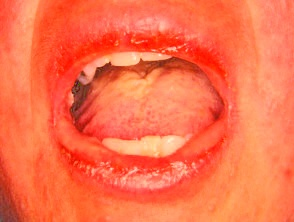SJS-TEN: (5, 0, 249, 221)
